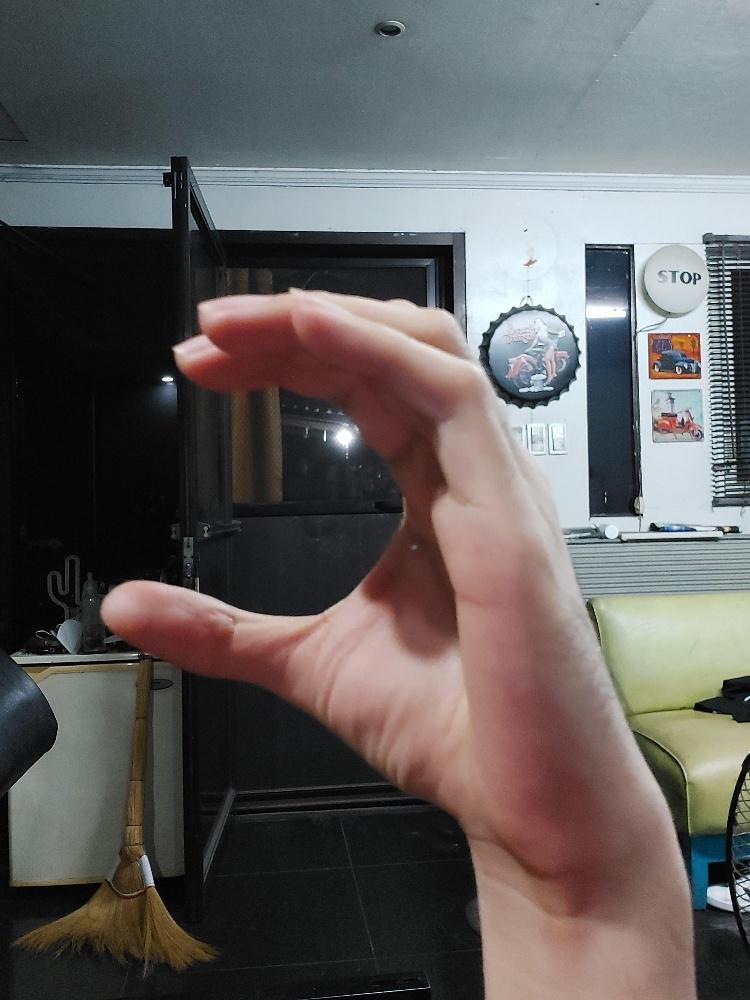c: (98, 286, 668, 876)
